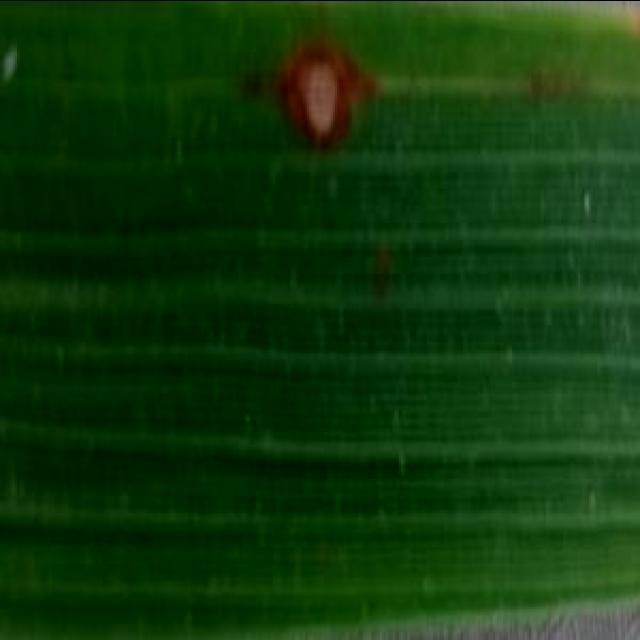Brown_Spot: (264, 31, 396, 165)
